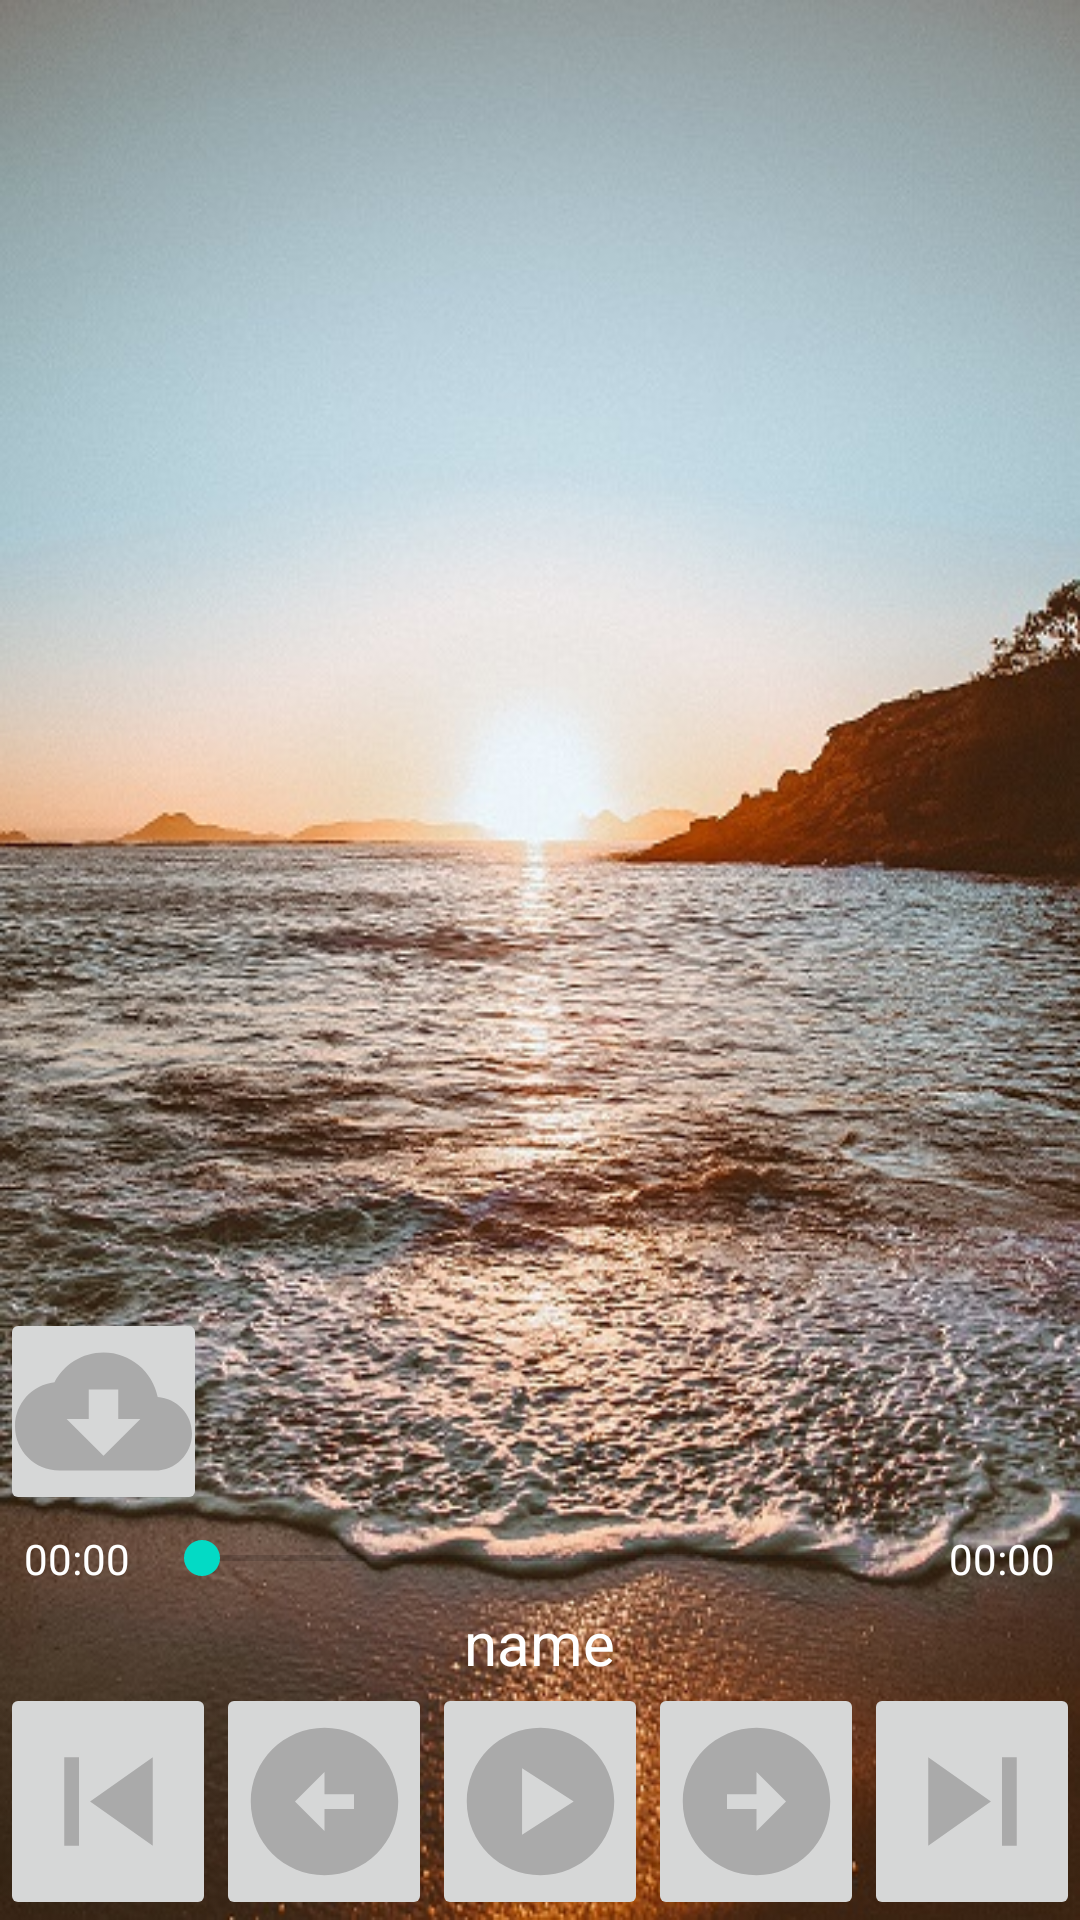

Point at icon controls on the screen. Image size 1080*1920, points as [x,y].
arrow circle left: [330,1801]
arrow circle right: [756,1801]
cloud download: [103,1411]
play circle: [540,1801]
skip next: [966,1793]
skip previous: [113,1794]
